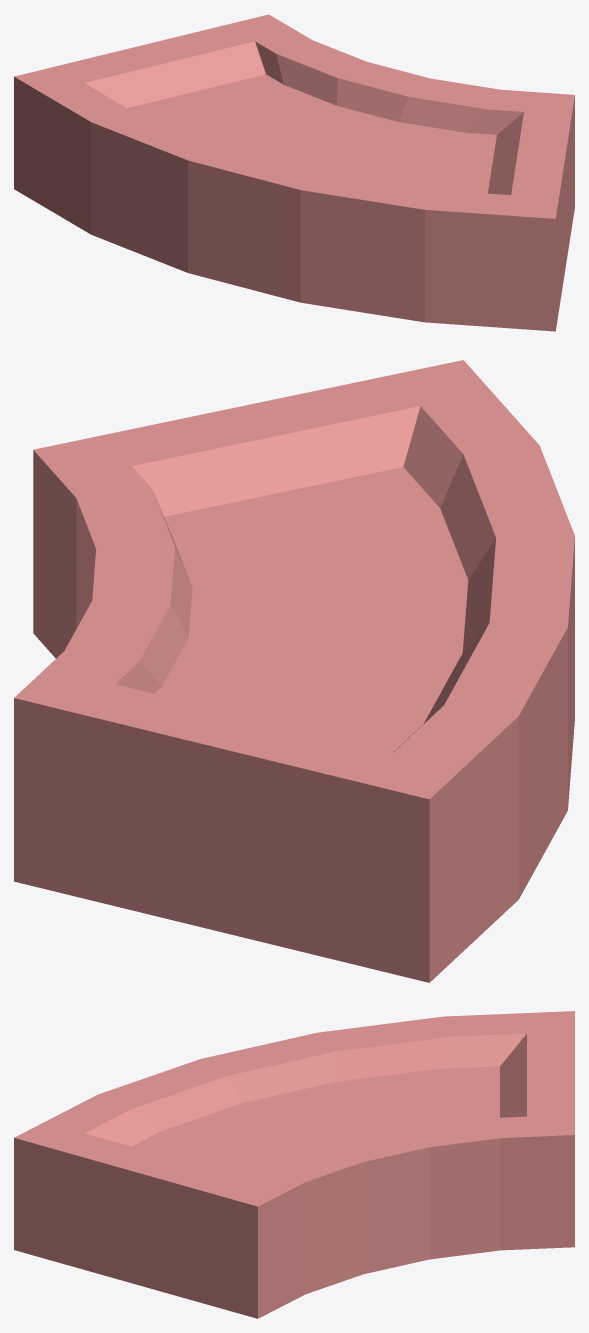
File: Key no 1.glb
3 renders of one model, top to bottom at view 1: azimuth 30°, elevation 25°; view 2: azimuth 150°, elevation 25°; view 3: azimuth 270°, elevation 25°, orthographic. The views are drawn at different scales.
Parts seen in each view (by area): view 1: Key no 1; view 2: Key no 1; view 3: Key no 1.
Boxes of the visible parts, <box> form: Key no 1: <box>14,14,574,331</box>; Key no 1: <box>14,360,574,982</box>; Key no 1: <box>14,1011,574,1318</box>.
Size of the model in its own units: 0.2018 by 0.054 by 0.2446.
